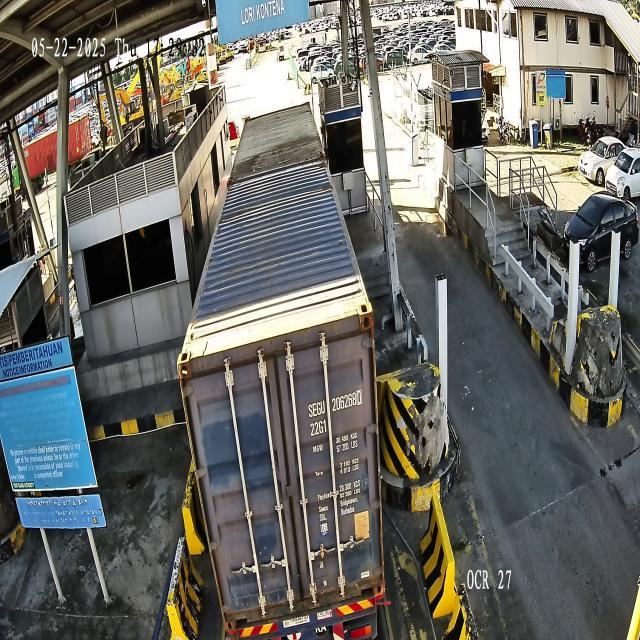ISO: (309, 420, 328, 438)
container_number: (308, 388, 363, 420)
